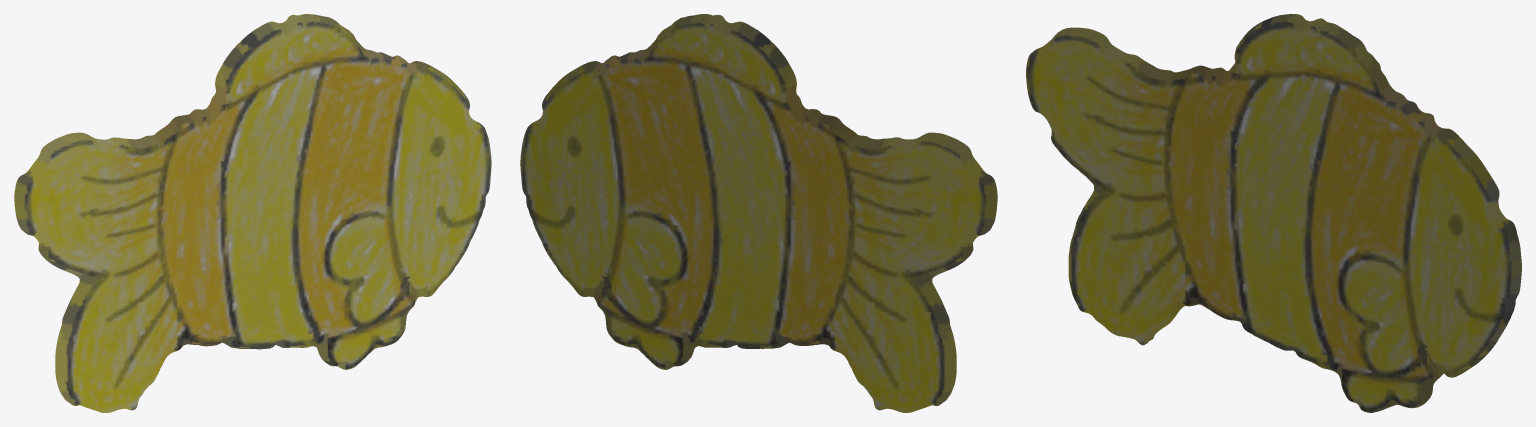
The model's file is clownfish_l.gltf.
3 renders of one model, left to right at view 1: azimuth 30°, elevation 25°; view 2: azimuth 150°, elevation 25°; view 3: azimuth 330°, elevation 25°, orthographic. The views are drawn at different scales.
Size of the model in its own units: 0.2853 by 0.2086 by 0.00997.
